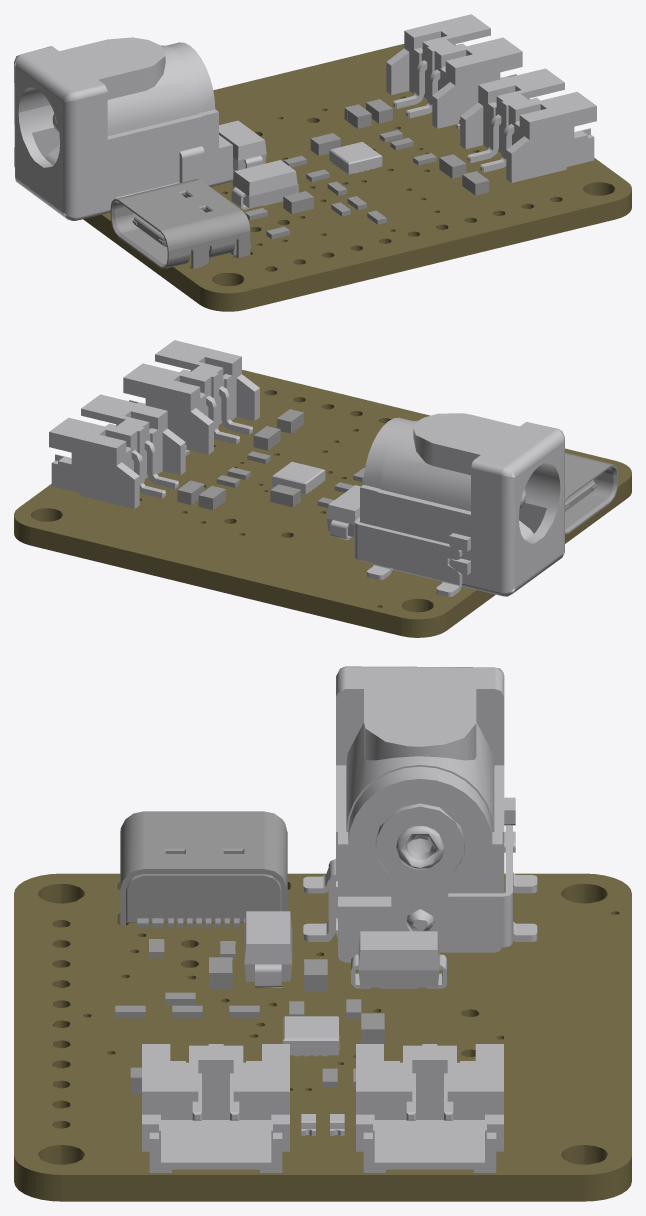
Rendered from ada-4755.glb.
3 renders of one model, top to bottom at view 1: azimuth 30°, elevation 25°; view 2: azimuth 150°, elevation 25°; view 3: azimuth 270°, elevation 25°, orthographic. The views are drawn at different scales.
Parts seen in each view (by area): view 1: 0.5833333333333334_0.5833333333333334_0.5833333333333334_0.8, 0.16666666666666666_0.16666666666666666_0.08333333333333333_, 0.3333333333333333_0.3333333333333333_0.3333333333333333_0; view 2: 0.5833333333333334_0.5833333333333334_0.5833333333333334_0.8, 0.16666666666666666_0.16666666666666666_0.08333333333333333_, 0.3333333333333333_0.3333333333333333_0.3333333333333333_0; view 3: 0.16666666666666666_0.16666666666666666_0.08333333333333333_, 0.5833333333333334_0.5833333333333334_0.5833333333333334_0.8, 0.3333333333333333_0.3333333333333333_0.3333333333333333_0.
Boxes of the visible parts, x1=… form: 0.5833333333333334_0.5833333333333334_0.5833333333333334_0.8: x1=14, y1=14, x2=596, y2=220; 0.16666666666666666_0.16666666666666666_0.08333333333333333_: x1=14, y1=44, x2=631, y2=311; 0.3333333333333333_0.3333333333333333_0.3333333333333333_0: x1=110, y1=99, x2=489, y2=268; 0.5833333333333334_0.5833333333333334_0.5833333333333334_0.8: x1=49, y1=340, x2=564, y2=596; 0.16666666666666666_0.16666666666666666_0.08333333333333333_: x1=14, y1=370, x2=631, y2=637; 0.3333333333333333_0.3333333333333333_0.3333333333333333_0: x1=177, y1=409, x2=618, y2=534; 0.16666666666666666_0.16666666666666666_0.08333333333333333_: x1=14, y1=873, x2=631, y2=1201; 0.5833333333333334_0.5833333333333334_0.5833333333333334_0.8: x1=142, y1=666, x2=537, y2=1172; 0.3333333333333333_0.3333333333333333_0.3333333333333333_0: x1=115, y1=811, x2=384, y2=1094.
Bounding box in the file's own units: 4.13 × 1.26 × 3.3.
